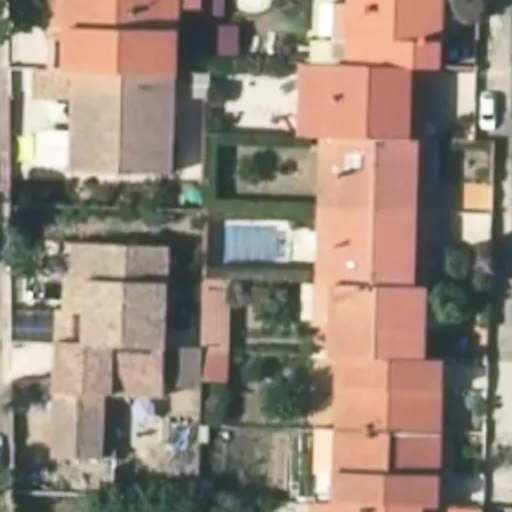pool: (204, 216, 295, 268)
